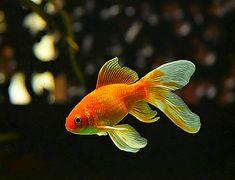goldfish: (55, 61, 213, 154)
